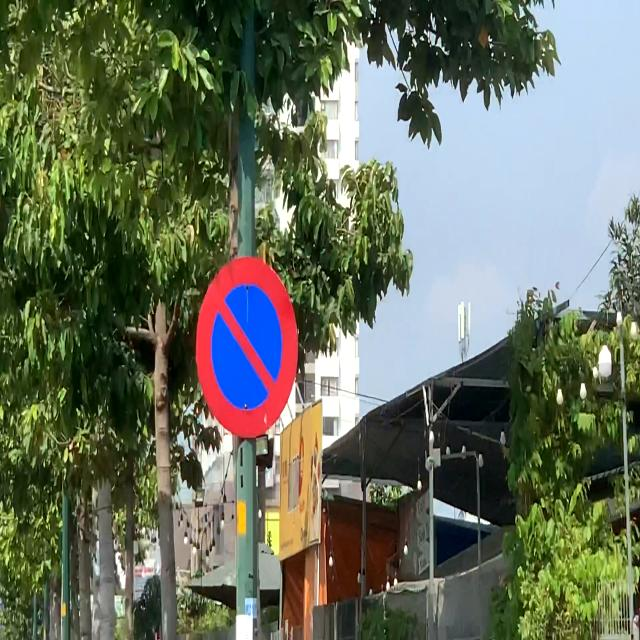P.131a: (195, 256, 299, 441)
